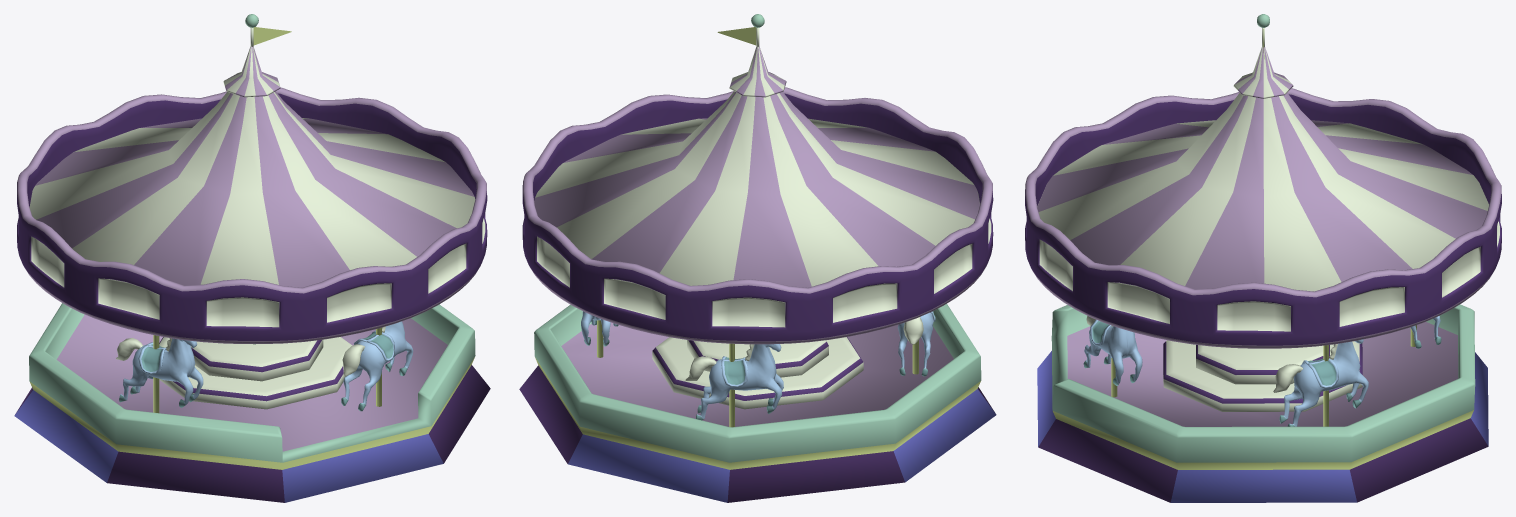
File: Carousel_Bad.fbx
3 views of the same model, side by side, from view 1: azimuth 30°, elevation 25°; view 2: azimuth 150°, elevation 25°; view 3: azimuth 270°, elevation 25° (orthographic).
Parts seen in each view (by area): view 1: Sphere.001; view 2: Sphere.001; view 3: Sphere.001.
Boxes of the visible parts, left/top/right/bottom form: Sphere.001: left=14, top=14, right=490, bottom=502; Sphere.001: left=519, top=14, right=996, bottom=502; Sphere.001: left=1025, top=14, right=1501, bottom=502.
Size of the model in its own units: 3270 by 2973 by 3270.
1 material, 1 textured.
